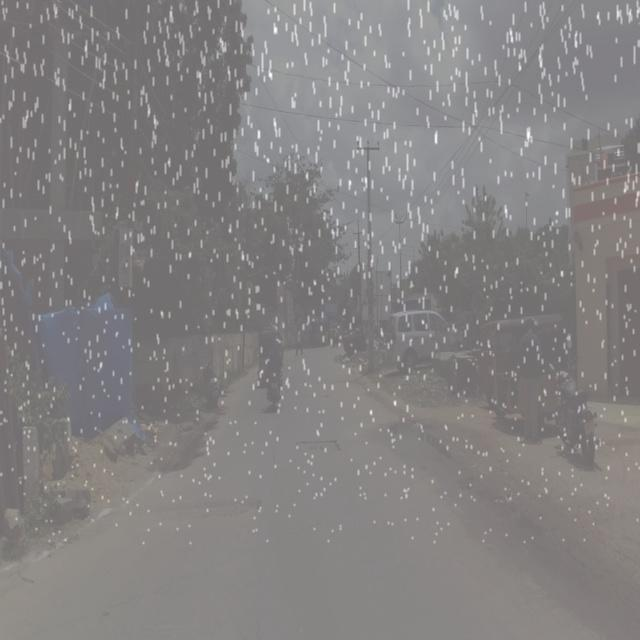Pothole: (147, 492, 270, 530), (289, 433, 347, 458)
